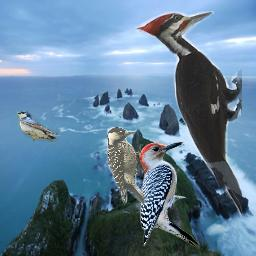Swallow: (17, 111, 60, 143)
Woodpecker: (135, 11, 242, 218), (134, 137, 205, 255), (107, 127, 147, 205)
